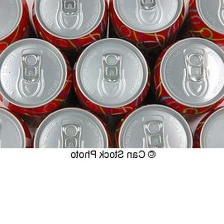can: (71, 37, 149, 118), (0, 35, 73, 116), (152, 36, 223, 115), (114, 103, 194, 154), (107, 0, 189, 47), (29, 0, 108, 48), (30, 105, 114, 148), (181, 0, 224, 45), (0, 99, 32, 150), (0, 0, 30, 54), (192, 104, 224, 148)
